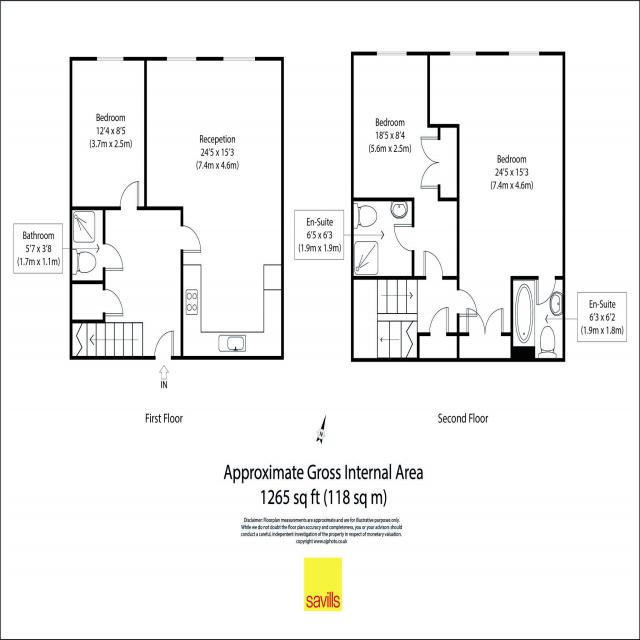DOOR: (392, 223, 416, 252), (180, 224, 203, 254), (102, 287, 125, 317), (456, 288, 479, 317), (119, 180, 140, 211), (423, 249, 444, 280), (535, 275, 556, 306), (102, 243, 124, 272), (154, 329, 174, 360), (429, 306, 449, 337)
ROOM: (143, 54, 285, 362), (425, 49, 567, 337), (349, 51, 461, 280), (69, 178, 206, 363), (67, 55, 148, 212)
WINDOW: (449, 50, 477, 57), (376, 51, 408, 57), (508, 51, 540, 57), (166, 56, 197, 62), (96, 56, 124, 62)
